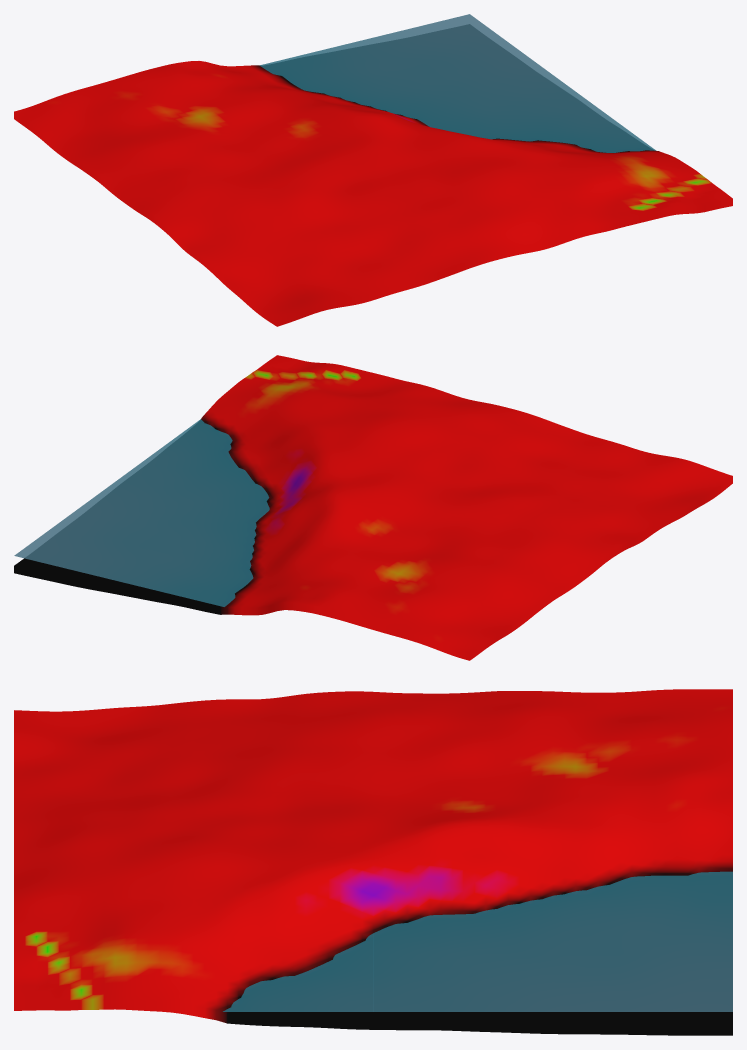
The model's file is chunk_1_6.glb.
3 views of the same model, one above another, from view 1: azimuth 30°, elevation 25°; view 2: azimuth 150°, elevation 25°; view 3: azimuth 270°, elevation 25° (orthographic). The views are drawn at different scales.
Visible parts, largest first — view 1: LOD0, Water; view 2: LOD0, Water; view 3: LOD0, Water.
Boxes of the visible parts, bbox=[...] form: LOD0: bbox=[14, 25, 732, 326]; Water: bbox=[259, 14, 656, 152]; LOD0: bbox=[14, 355, 732, 660]; Water: bbox=[14, 419, 269, 606]; LOD0: bbox=[14, 689, 732, 1035]; Water: bbox=[223, 871, 732, 1011].
Size of what is drawn, in the model's own units: 256 by 25.88 by 256.
